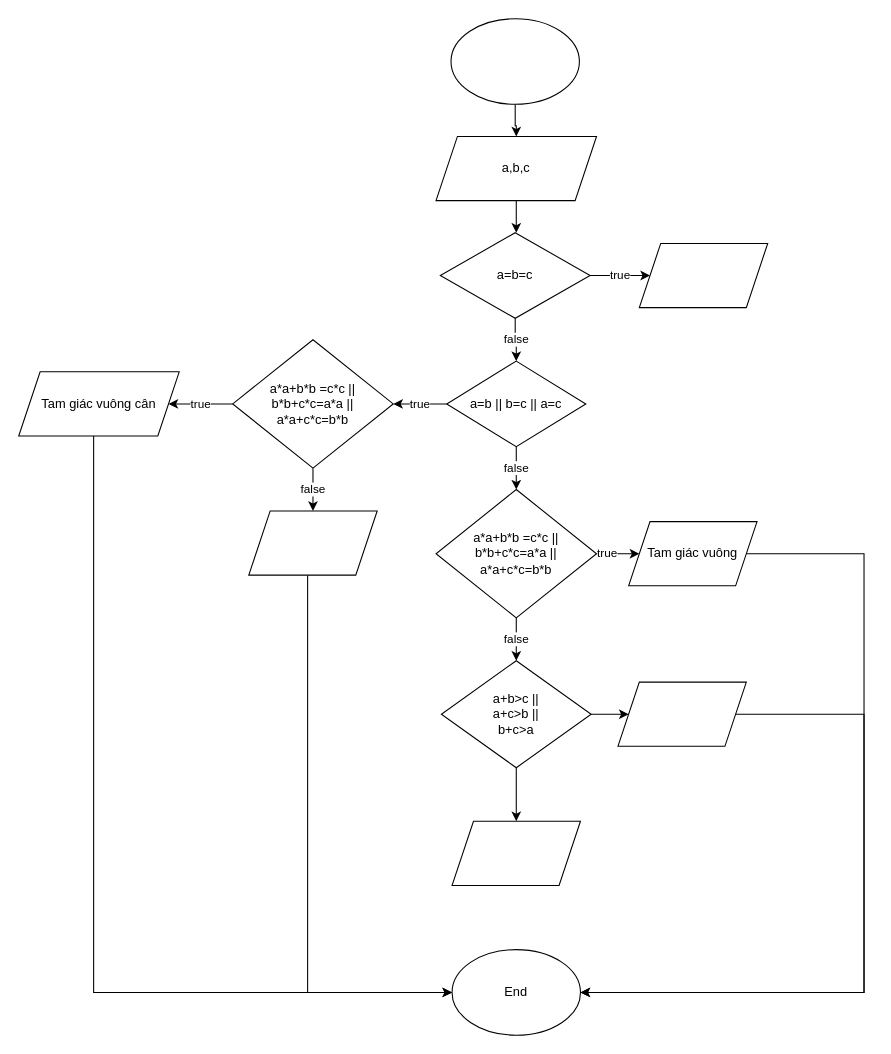
This 891x1054 diagram has some shape labels left out. The shapes that lost their labels are listed below. From the top down, each one's centre as x and y in pixels, then its label:
pixel 514 61: Start
pixel 703 275: Tam giác đều
pixel 312 542: Tam giác cân
pixel 681 713: Tam giác thường
pixel 515 852: Không tạo tam giác
